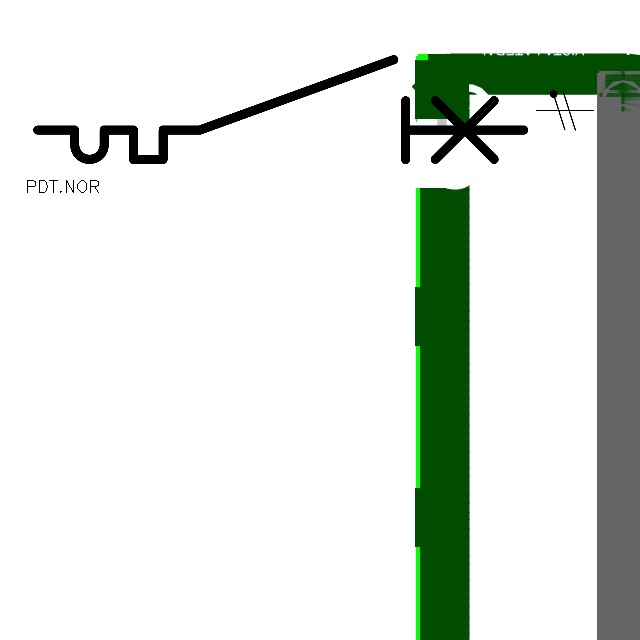interruptor_termomagnetico: (25, 47, 536, 172)
